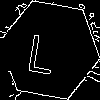L: (25, 25, 59, 75)
